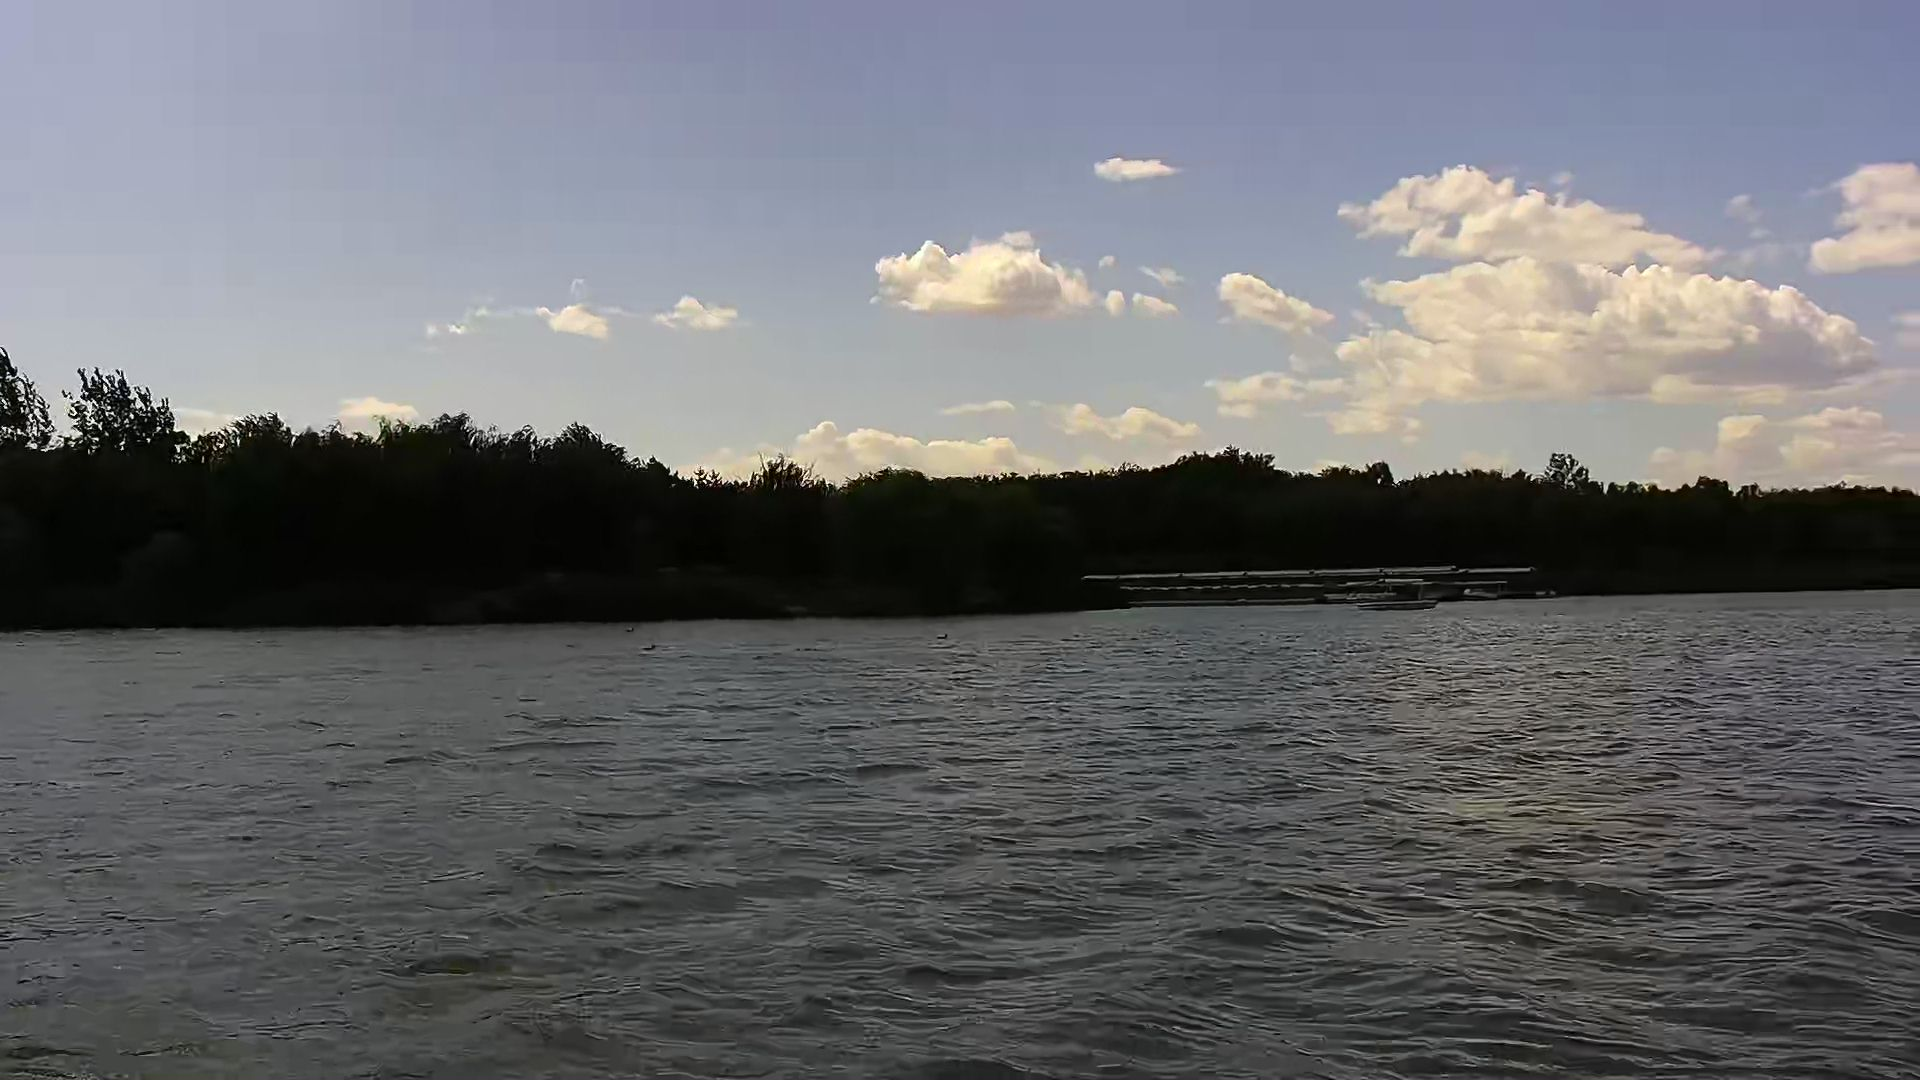boat: (1346, 576, 1448, 613)
harbor: (1083, 562, 1545, 607)
